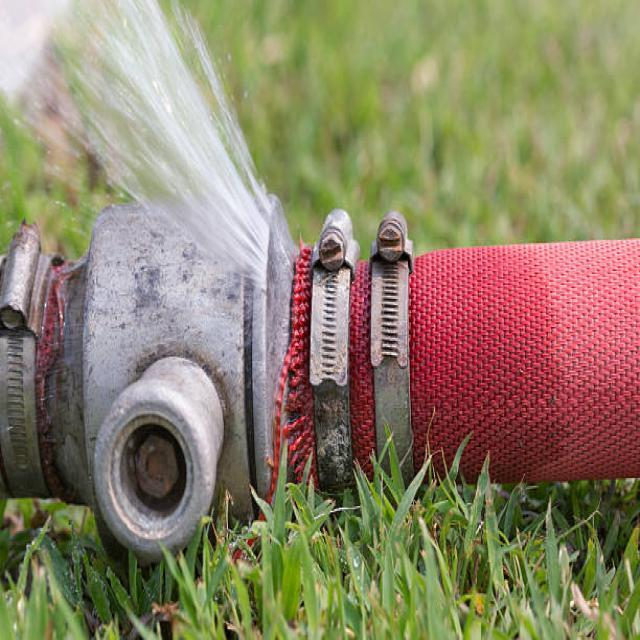pipe burst: (0, 0, 286, 295)
